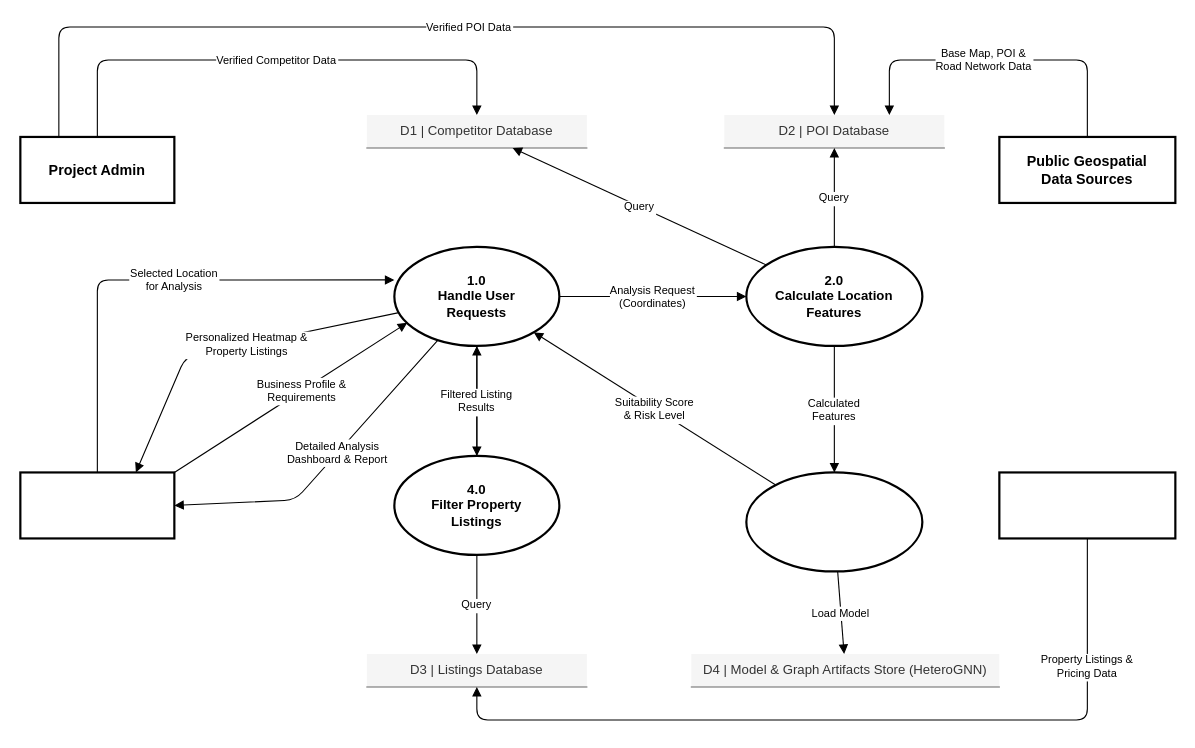
This 1195x748 diagram has some shape labels left out. The shapes that lost their labels are listed below. From the top down, each one's centre as x and y in pixels, then its label:
At [97,505]: "Entrepreneur".
At [834,521]: "3.0 Predict Suitability Score".
At [1087,505]: "Real Estate Data Sources".
